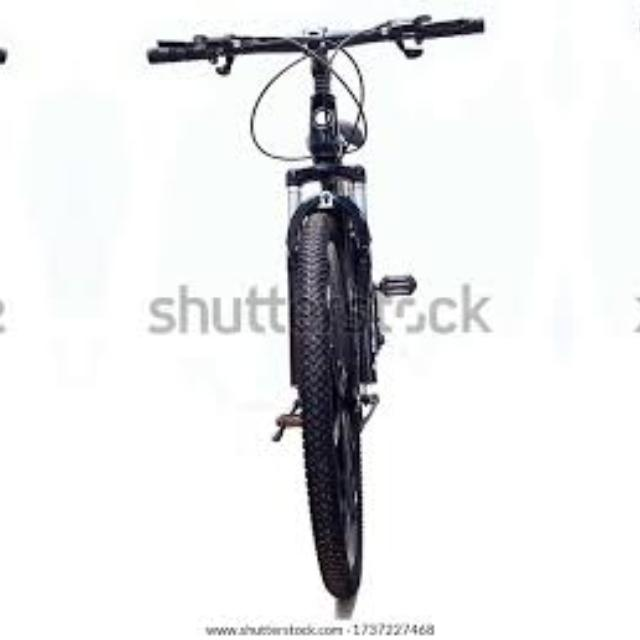obstacle: (129, 16, 489, 600), (0, 15, 23, 600), (635, 15, 640, 600)
